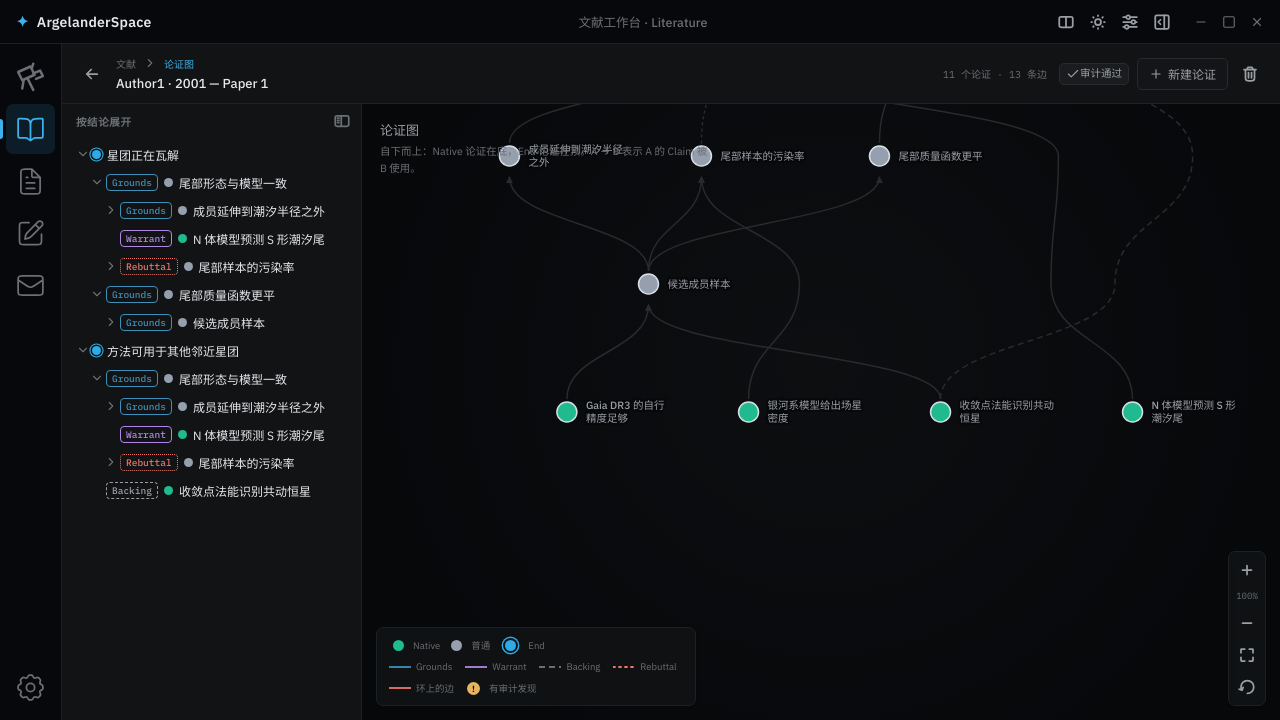
Test: opening, selecting and leaving the argument graph › the page itself still asks the user (a click leaves through the dialog)
The image size is (1280, 720).
Click the button "新建论证" at (1182, 74), box [1137,58,1228,90]
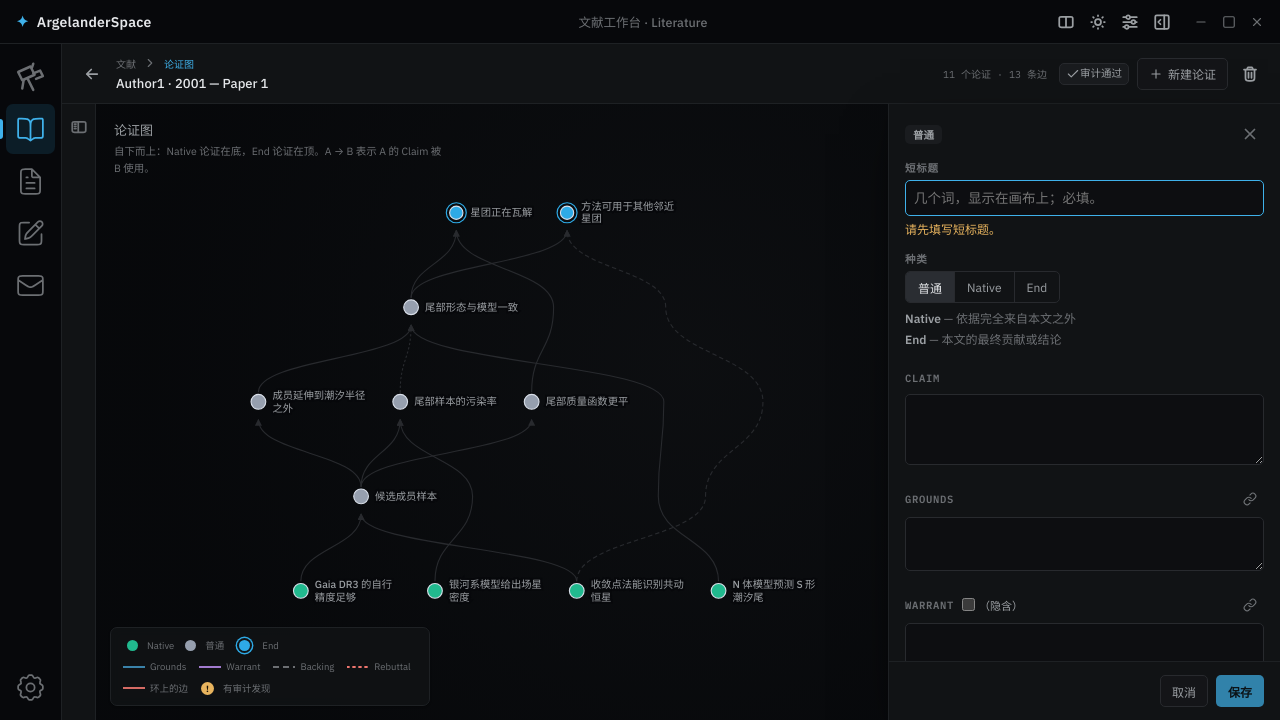
Expected: the field labelled "短标题" is shown
Type "My draft" into the field labelled "短标题" at (1084, 198), box [905,180,1264,216]
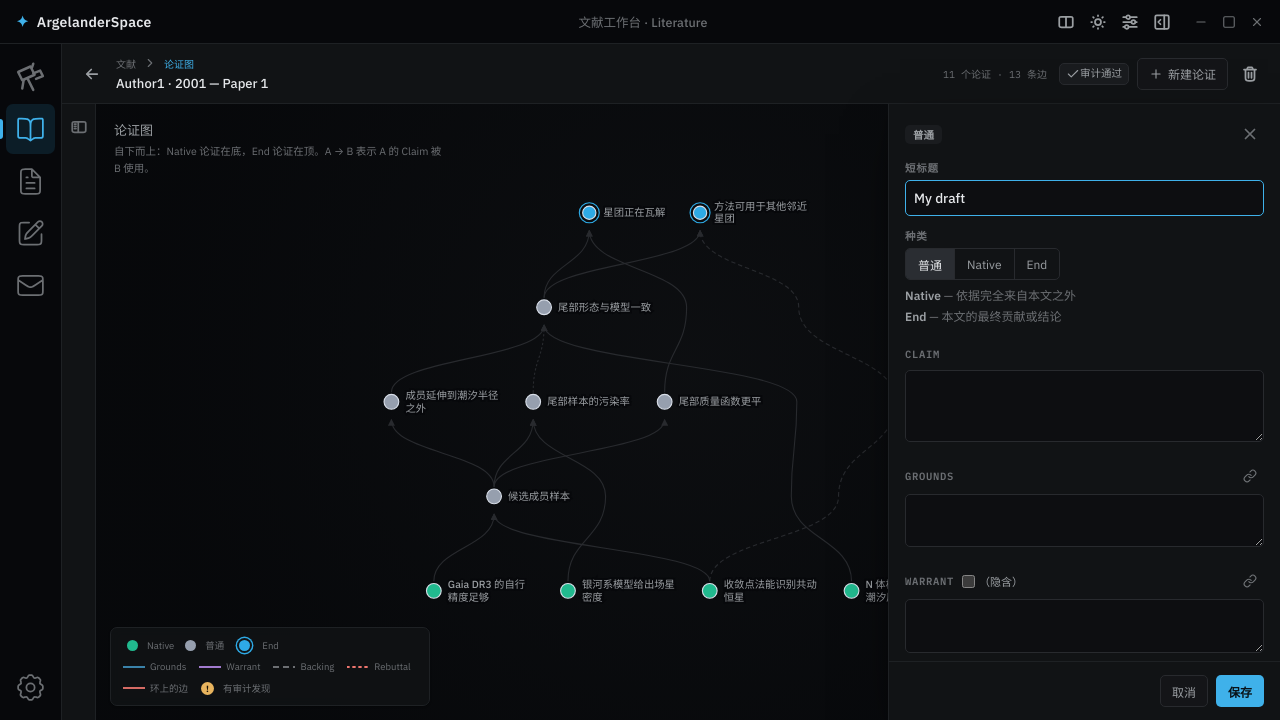
Click the button named "返回文献" at (92, 74), box [78,60,106,88]
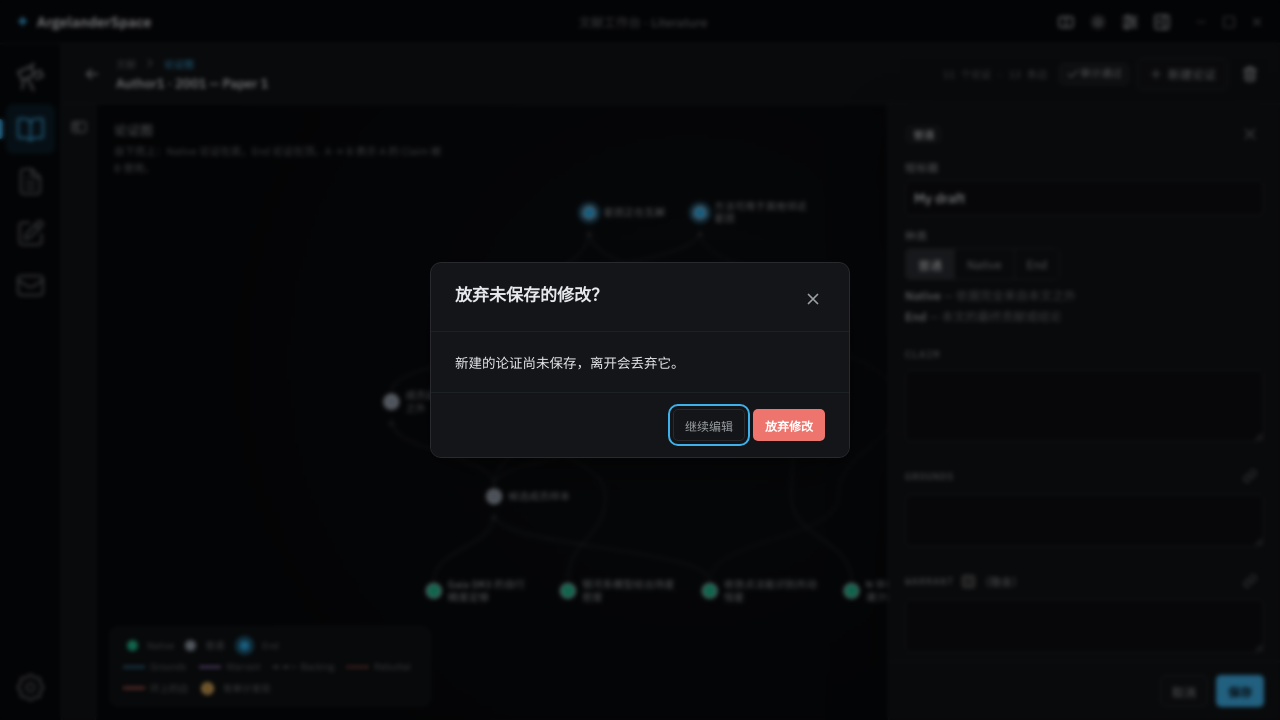
Expected: the dialog is shown, [430,262,850,458]
